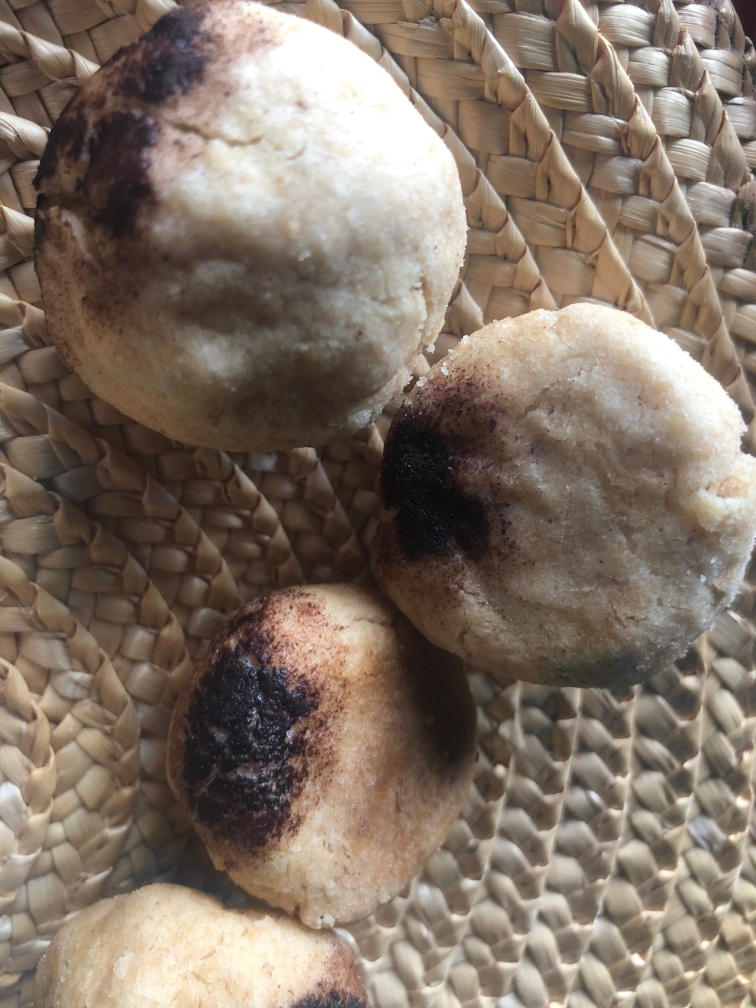snowball: (38, 1, 467, 446), (384, 301, 754, 681), (166, 582, 488, 922)
